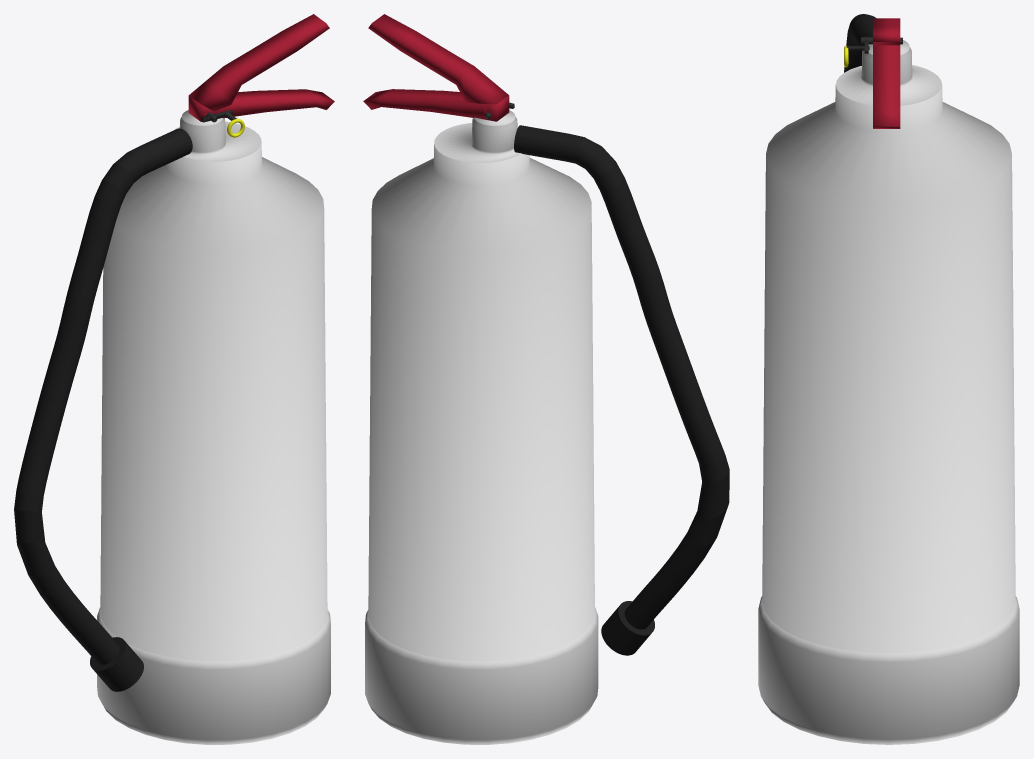
Rendered from fire extingush.fbx.
3 views of the same model, side by side, from view 1: azimuth 30°, elevation 25°; view 2: azimuth 150°, elevation 25°; view 3: azimuth 270°, elevation 25° (orthographic). The views are drawn at different scales.
Parts seen in each view (by area): view 1: Cylinder, Cylinder.001, Cube.001, Cube; view 2: Cylinder, Cylinder.001, Cube.001, Cube; view 3: Cylinder, Cube, Cylinder.001, Cube.001.
Part boxes in pixels (bbox=[...]): Cylinder: bbox=[97, 110, 330, 744]; Cylinder.001: bbox=[14, 128, 192, 691]; Cube.001: bbox=[189, 14, 329, 111]; Cube: bbox=[188, 89, 334, 121]; Cylinder: bbox=[365, 110, 598, 744]; Cylinder.001: bbox=[514, 125, 729, 655]; Cube.001: bbox=[368, 14, 508, 104]; Cube: bbox=[363, 89, 509, 121]; Cylinder: bbox=[758, 40, 1019, 744]; Cube: bbox=[873, 45, 900, 128]; Cylinder.001: bbox=[844, 14, 876, 72]; Cube.001: bbox=[873, 18, 900, 45].
Bounding box in the file's own units: 511 × 949 × 314.
